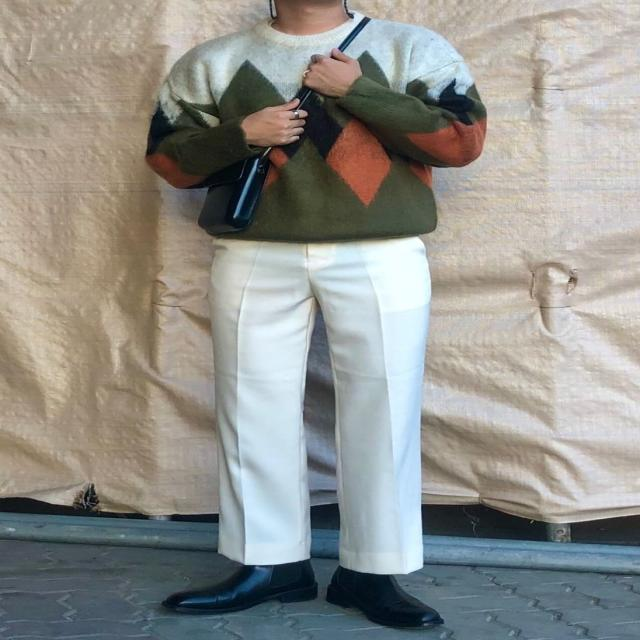slacks: (206, 235, 432, 576)
sweater: (145, 11, 485, 243)
